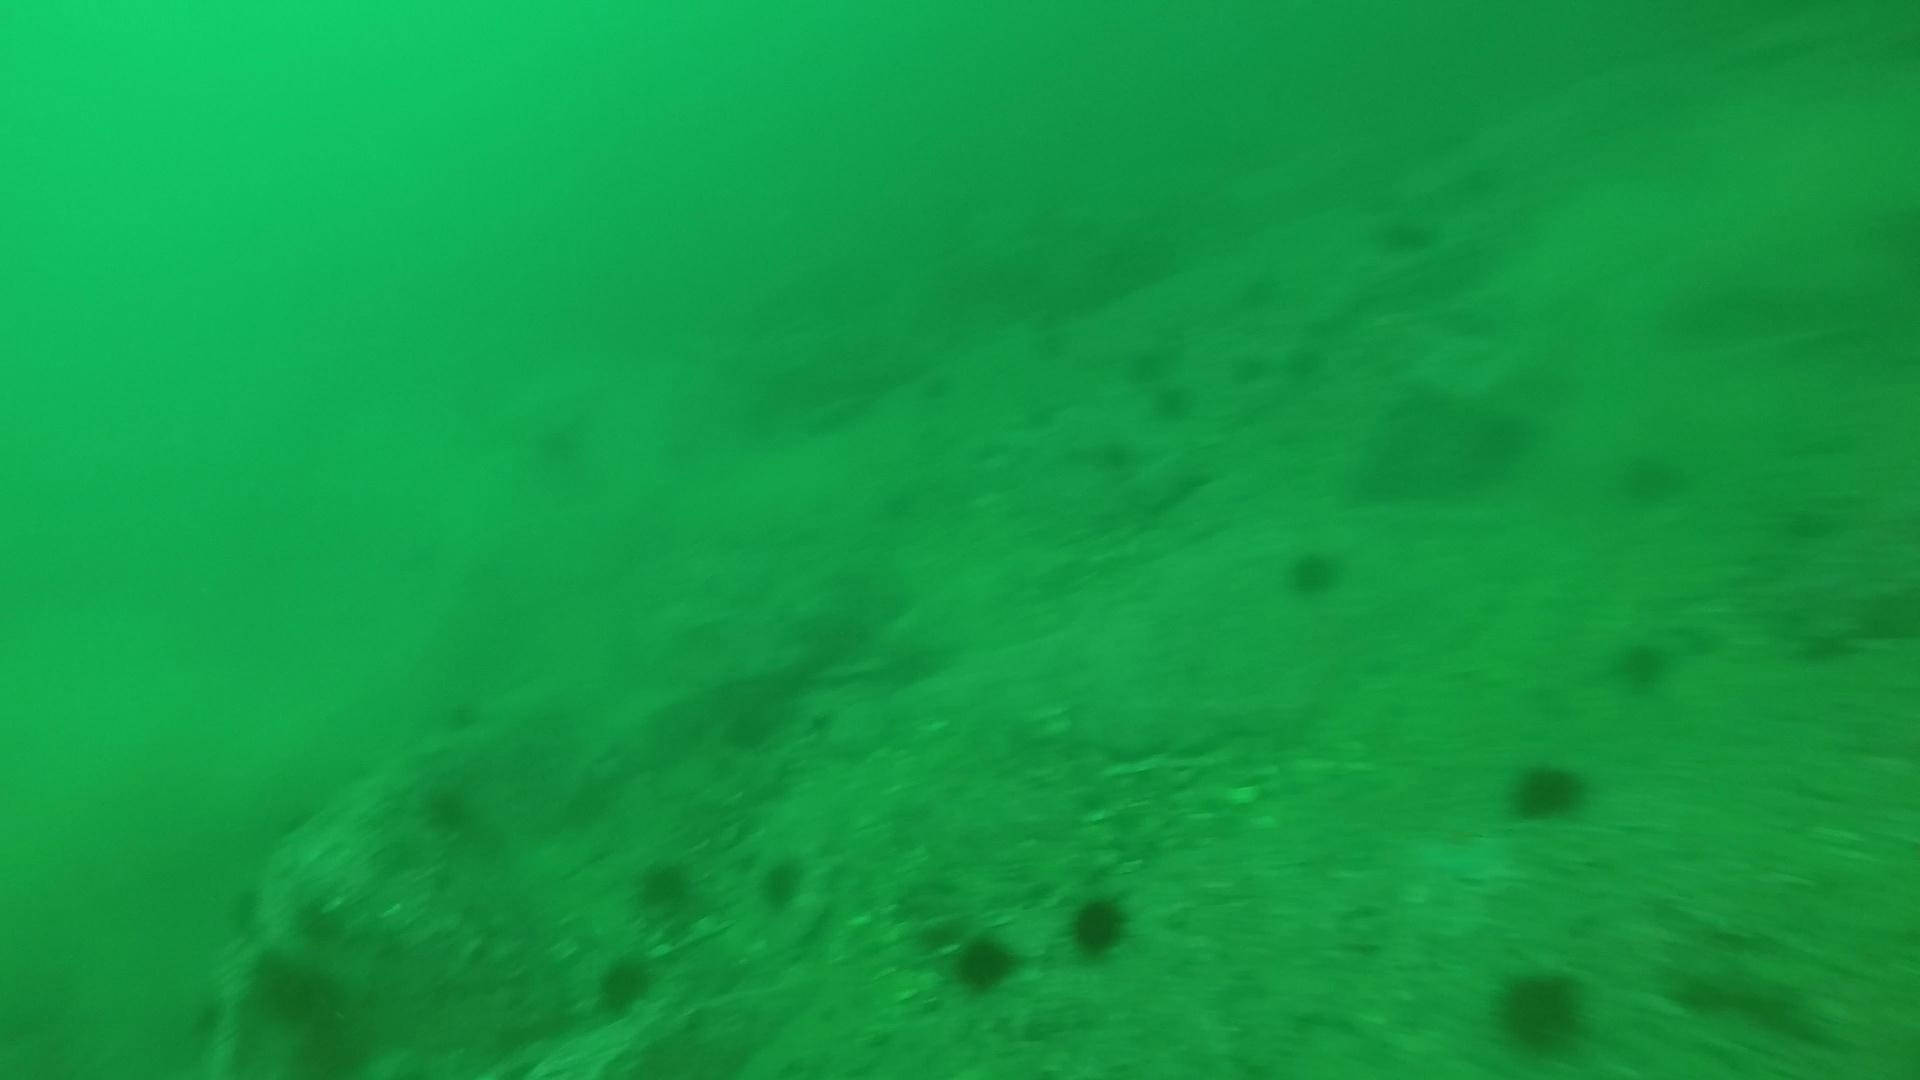echinus: (1487, 963, 1592, 1059), (1502, 754, 1593, 827), (942, 924, 1023, 998), (1062, 887, 1137, 964), (1611, 442, 1691, 509), (589, 949, 658, 1019), (628, 853, 702, 918), (1606, 632, 1677, 695), (1279, 541, 1349, 603), (268, 969, 335, 1033), (415, 775, 481, 837), (752, 851, 810, 915), (1371, 204, 1440, 258), (1456, 146, 1524, 200), (291, 891, 353, 948), (1236, 261, 1292, 313), (1145, 375, 1200, 426), (1120, 348, 1175, 400), (1027, 313, 1083, 364), (272, 800, 324, 848), (214, 884, 266, 930), (178, 998, 229, 1044), (1282, 340, 1329, 384), (902, 360, 945, 401), (1234, 352, 1273, 385)
